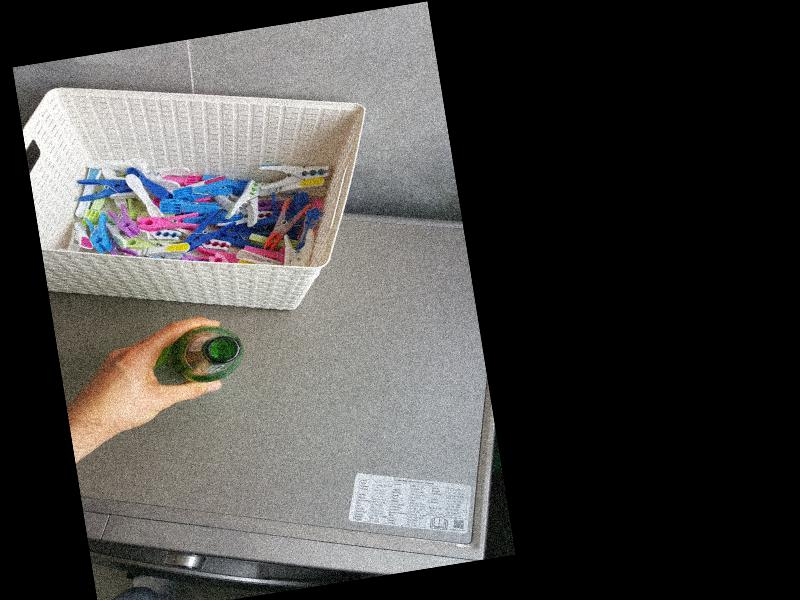Beer: (161, 321, 247, 388)
